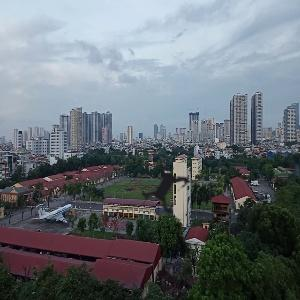drone: (117, 138, 223, 244)
